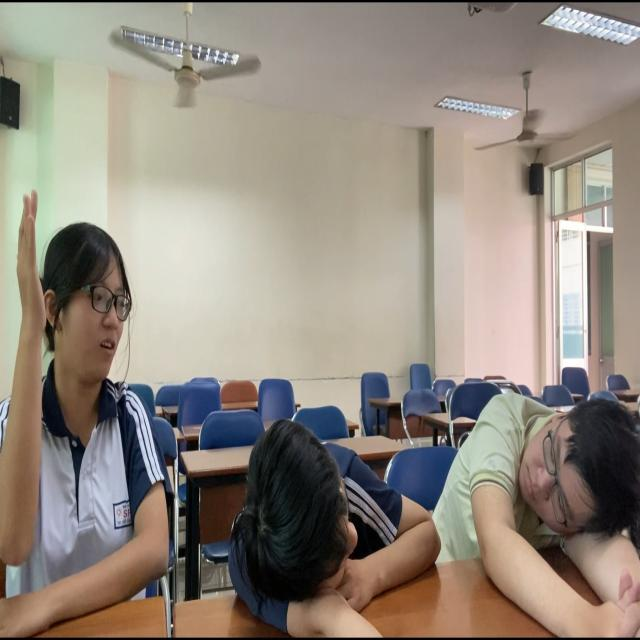raise_hand: (1, 182, 180, 639)
sleep: (433, 360, 640, 614), (218, 410, 440, 640)
